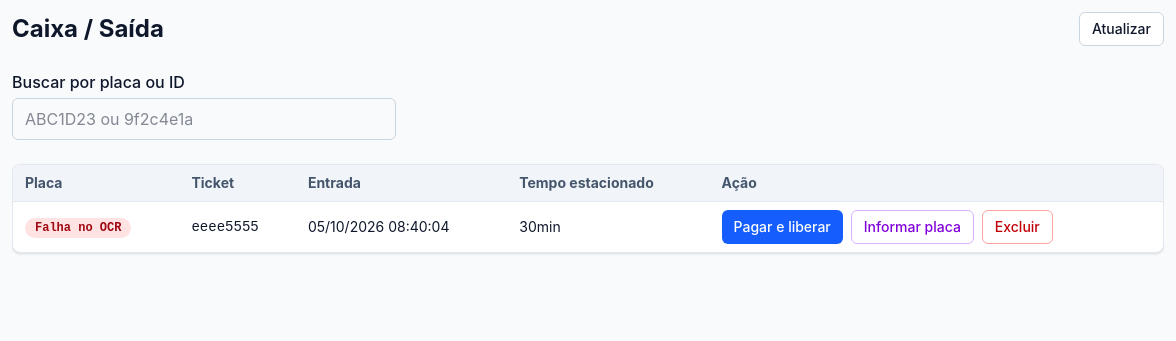
Test: PaymentPage — placa manual e exclusão › Informar placa numa sessão FAILED envia a placa normalizada
Check: the table is shown, box [13,165,1163,252]
Click the button "Informar placa" at (912, 227), box [851,210,974,244]
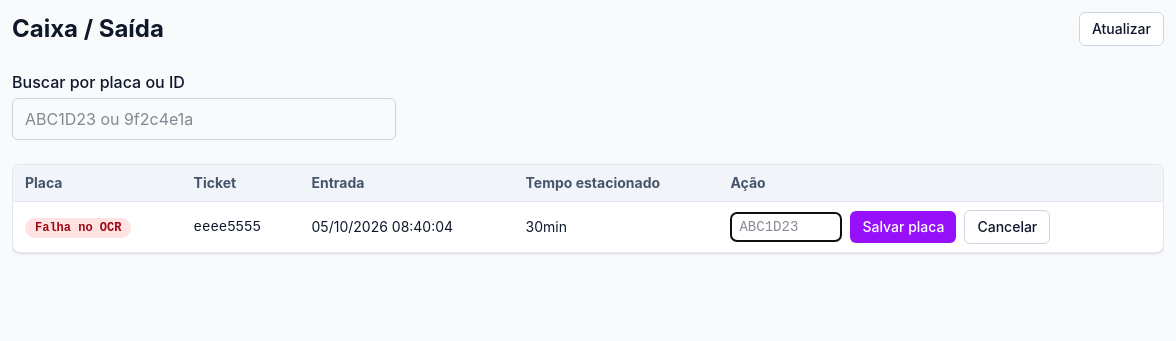
Type "lsn-4i49" into the field named "Placa do veículo" at (786, 227), box [730,212,842,242]
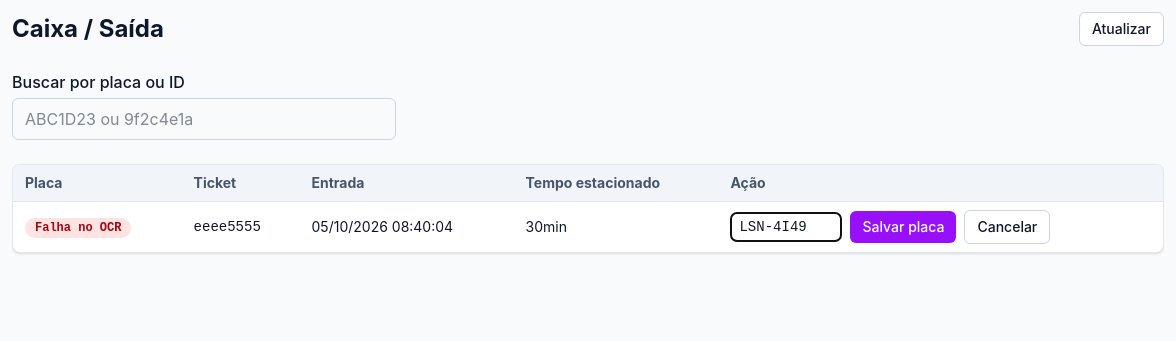
Click the button "Salvar placa" at (904, 227), box [850,211,956,243]
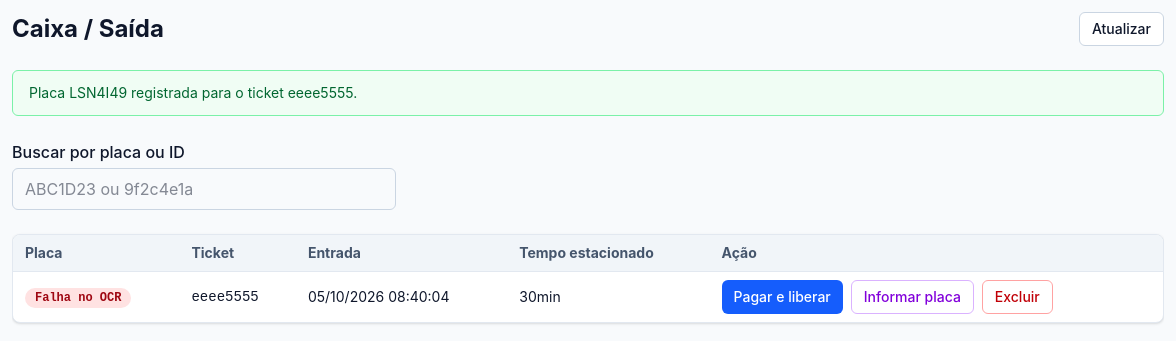
Check: the text "Placa LSN4I49 registrada para o ticket eeee5555." is shown, box [29,83,357,103]
